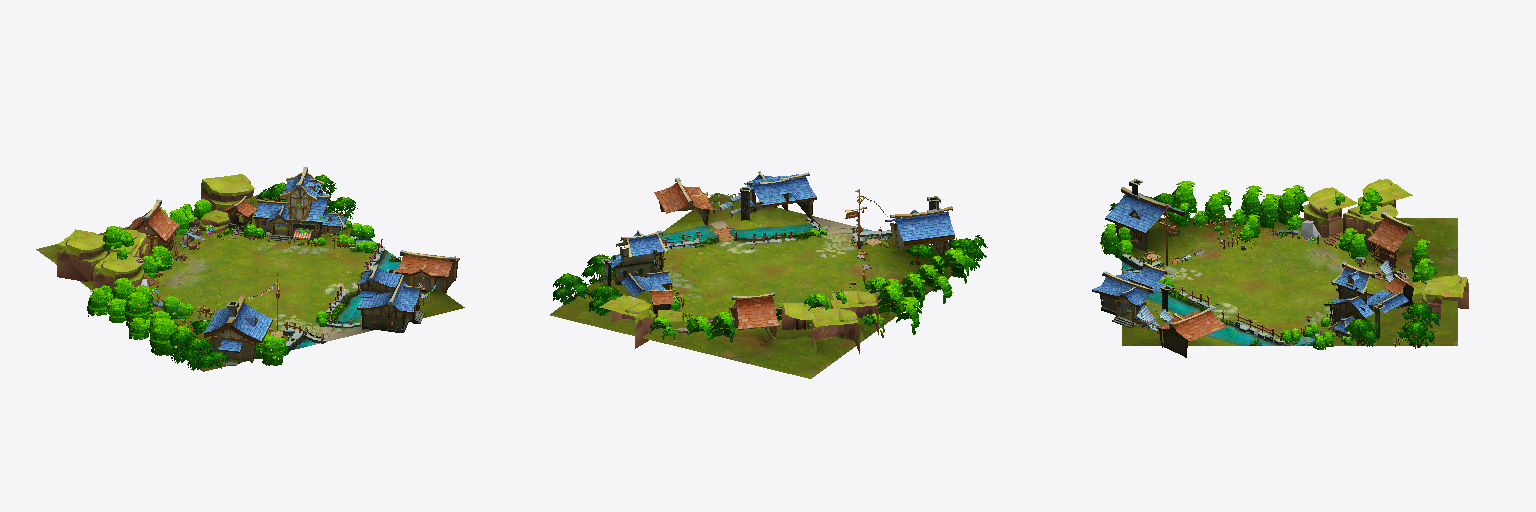
3 renders of one model, left to right at view 1: azimuth 30°, elevation 25°; view 2: azimuth 150°, elevation 25°; view 3: azimuth 270°, elevation 25°, orthographic.
Parts seen in each view (by area): view 1: Model_Bui_zhandouchangjing, Model_Bui_zhandouchangjingditu, Model_Bui_zhandouchangjingzhiwu; view 2: Model_Bui_zhandouchangjingditu, Model_Bui_zhandouchangjing, Model_Bui_zhandouchangjingzhiwu; view 3: Model_Bui_zhandouchangjingditu, Model_Bui_zhandouchangjing, Model_Bui_zhandouchangjingzhiwu.
Part boxes in pixels (left/top/right/bottom): Model_Bui_zhandouchangjing: left=57, top=167, right=459, bottom=365; Model_Bui_zhandouchangjingditu: left=36, top=195, right=464, bottom=371; Model_Bui_zhandouchangjingzhiwu: left=87, top=174, right=400, bottom=370; Model_Bui_zhandouchangjingditu: left=550, top=193, right=975, bottom=378; Model_Bui_zhandouchangjing: left=584, top=171, right=954, bottom=353; Model_Bui_zhandouchangjingzhiwu: left=553, top=212, right=987, bottom=342; Model_Bui_zhandouchangjingditu: left=1122, top=218, right=1457, bottom=345; Model_Bui_zhandouchangjing: left=1092, top=179, right=1468, bottom=357; Model_Bui_zhandouchangjingzhiwu: left=1100, top=181, right=1439, bottom=349.
Bounding box in the file's own units: 8101 × 1704 × 8324.
Materials: 3 (3 with a texture image).